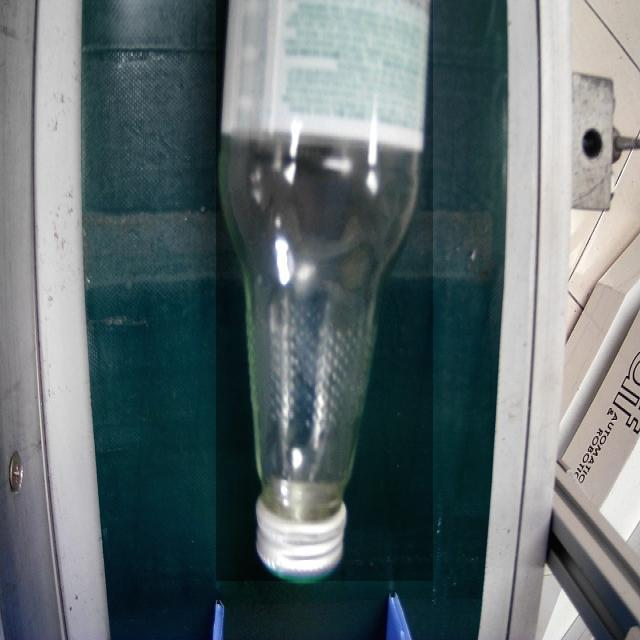Glass: (216, 0, 433, 581)
